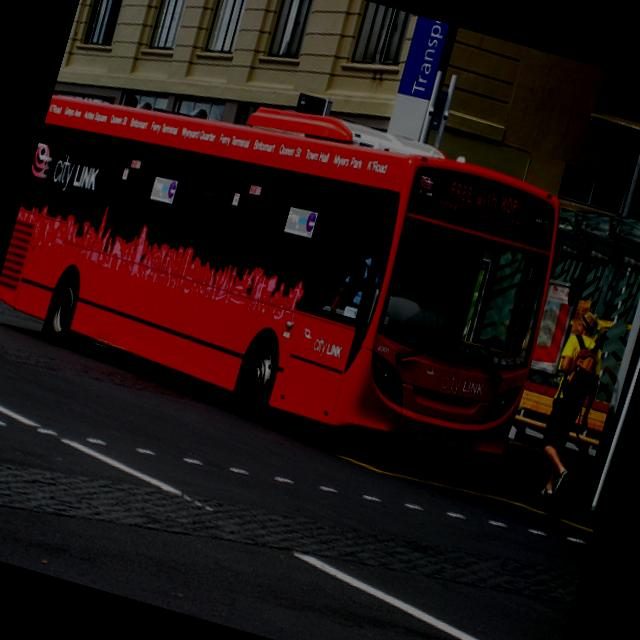Vehicle: (0, 33, 582, 497)
